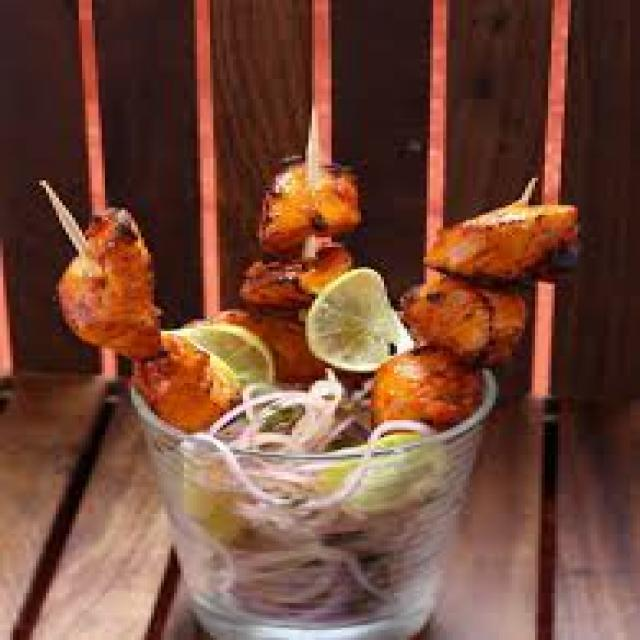Chicken Tikka: (47, 155, 587, 439)
